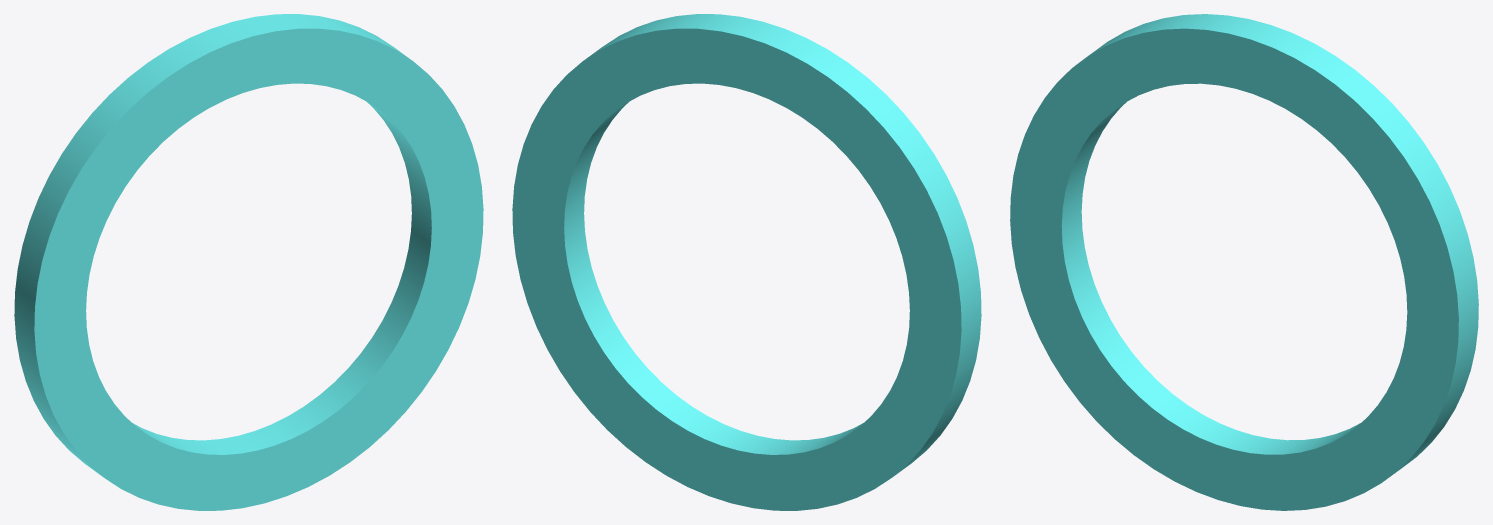
Rendered from gasket.obj.
3 views of the same model, side by side, from view 1: azimuth 30°, elevation 25°; view 2: azimuth 150°, elevation 25°; view 3: azimuth 330°, elevation 25° (orthographic).
Parts seen in each view (by area): view 1: instance_0_ID5, instance_0.001_ID13; view 2: instance_0_ID5, instance_0.001_ID13; view 3: instance_0_ID5, instance_0.001_ID13.
Boxes of the visible parts, bbox=[...] form: instance_0_ID5: bbox=[14, 14, 483, 510]; instance_0.001_ID13: bbox=[132, 102, 431, 454]; instance_0_ID5: bbox=[512, 14, 981, 510]; instance_0.001_ID13: bbox=[564, 102, 863, 454]; instance_0_ID5: bbox=[1010, 14, 1478, 510]; instance_0.001_ID13: bbox=[1061, 102, 1360, 454].
Size of the model in its own units: 1.62 by 1.62 by 0.125.
